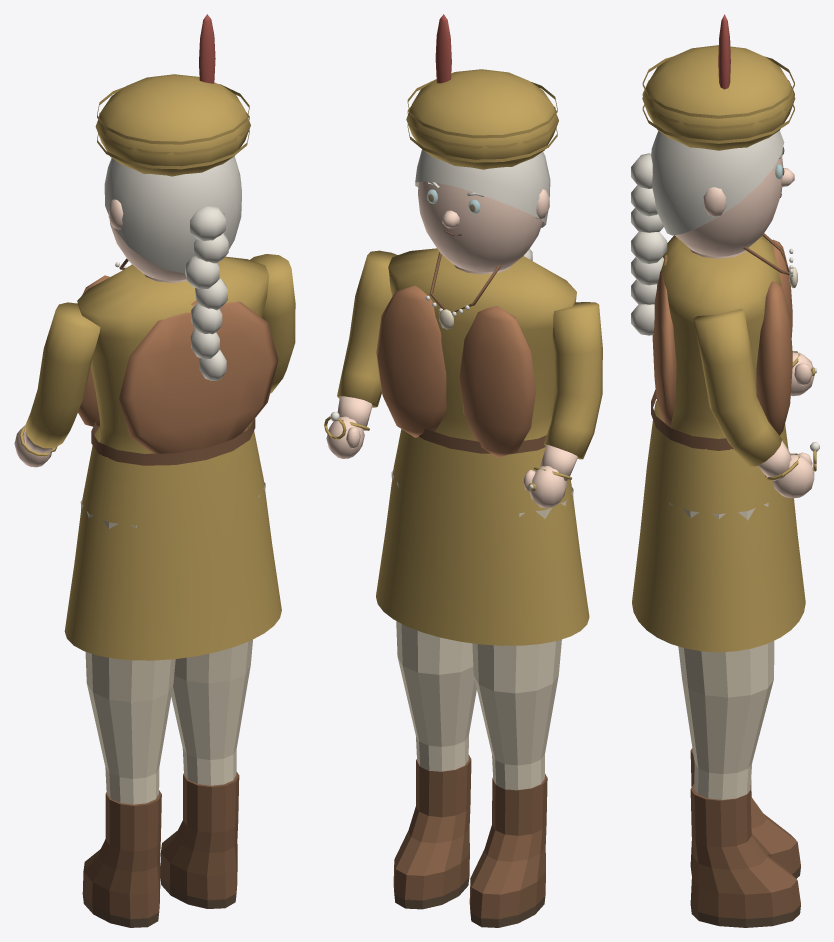
File: SM_NPC_PERLA.glb
3 views of the same model, side by side, from view 1: azimuth 30°, elevation 25°; view 2: azimuth 150°, elevation 25°; view 3: azimuth 270°, elevation 25° (orthographic). The views are drawn at different scales.
Visible parts, largest first — view 1: SM_NPC_PERLA_BODY, SM_NPC_PERLA_HAIR, SM_NPC_PERLA_LEG_L, SM_NPC_PERLA_LEG_R, SM_NPC_PERLA_ARM_L, SM_NPC_PERLA_ARM_R, SM_NPC_PERLA_HEAD; view 2: SM_NPC_PERLA_BODY, SM_NPC_PERLA_LEG_L, SM_NPC_PERLA_LEG_R, SM_NPC_PERLA_HAIR, SM_NPC_PERLA_ARM_L, SM_NPC_PERLA_HEAD, SM_NPC_PERLA_ARM_R; view 3: SM_NPC_PERLA_BODY, SM_NPC_PERLA_HAIR, SM_NPC_PERLA_LEG_R, SM_NPC_PERLA_ARM_R, SM_NPC_PERLA_HEAD, SM_NPC_PERLA_LEG_L, SM_NPC_PERLA_ARM_L.
Part boxes in pixels (left/top/right/bottom): SM_NPC_PERLA_BODY: left=64, top=256, right=281, bottom=660; SM_NPC_PERLA_HAIR: left=95, top=14, right=250, bottom=380; SM_NPC_PERLA_LEG_L: left=80, top=499, right=175, bottom=927; SM_NPC_PERLA_LEG_R: left=160, top=482, right=265, bottom=908; SM_NPC_PERLA_ARM_L: left=14, top=302, right=100, bottom=467; SM_NPC_PERLA_ARM_R: left=250, top=254, right=295, bottom=393; SM_NPC_PERLA_HEAD: left=108, top=182, right=241, bottom=280; SM_NPC_PERLA_BODY: left=376, top=248, right=589, bottom=645; SM_NPC_PERLA_LEG_L: left=469, top=487, right=573, bottom=927; SM_NPC_PERLA_LEG_R: left=391, top=470, right=476, bottom=909; SM_NPC_PERLA_HAIR: left=406, top=14, right=558, bottom=260; SM_NPC_PERLA_ARM_L: left=523, top=302, right=602, bottom=508; SM_NPC_PERLA_HEAD: left=418, top=181, right=549, bottom=272; SM_NPC_PERLA_ARM_R: left=324, top=250, right=397, bottom=458; SM_NPC_PERLA_BODY: left=632, top=233, right=805, bottom=652; SM_NPC_PERLA_HAIR: left=631, top=14, right=795, bottom=335; SM_NPC_PERLA_LEG_R: left=669, top=503, right=800, bottom=927; SM_NPC_PERLA_ARM_R: left=693, top=309, right=819, bottom=498; SM_NPC_PERLA_HEAD: left=675, top=153, right=794, bottom=256; SM_NPC_PERLA_LEG_L: left=690, top=748, right=800, bottom=878; SM_NPC_PERLA_ARM_L: left=790, top=351, right=816, bottom=396.
Bounding box in the file's own units: 0.6008 × 2.01 × 0.3833.
